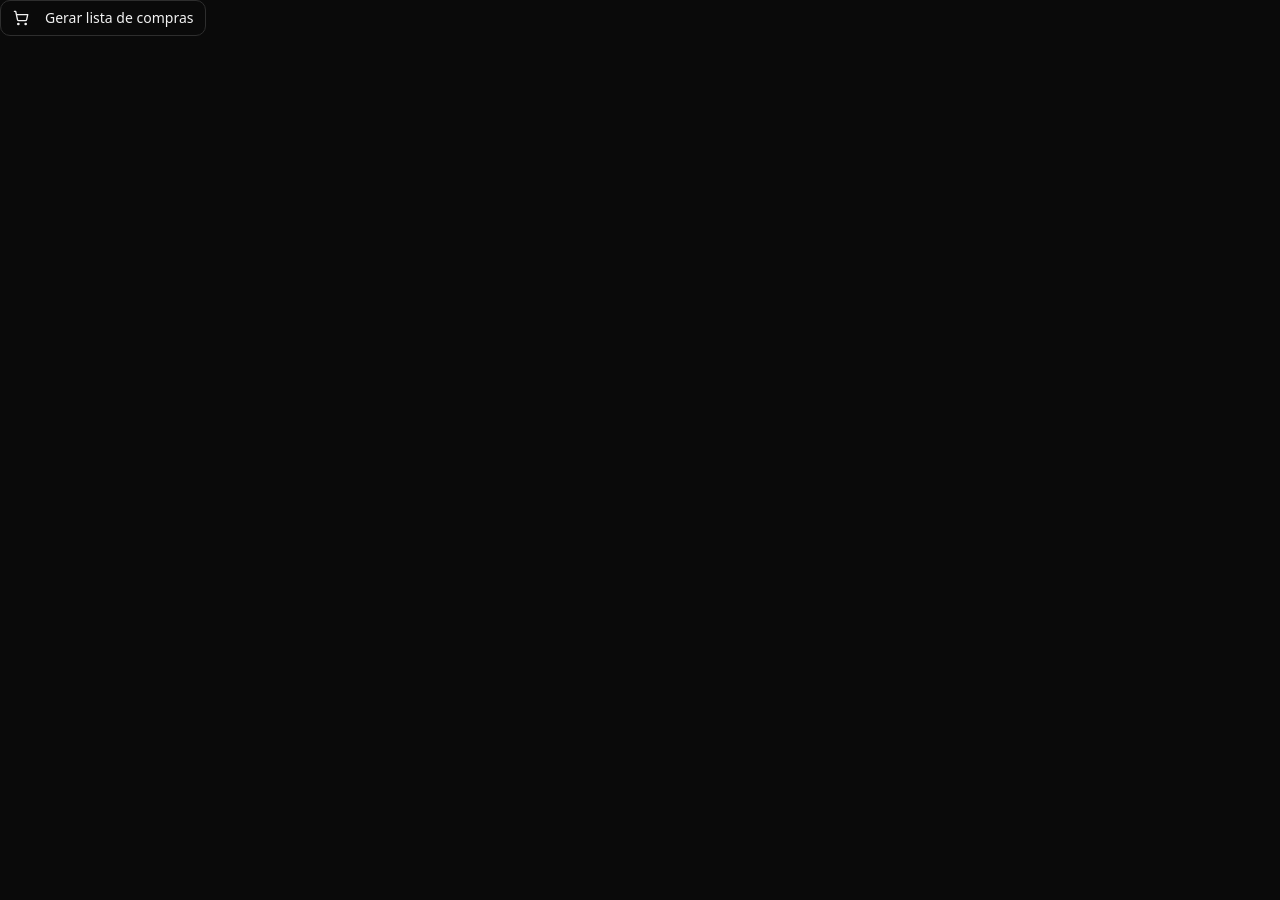
Test: preserves the form and avoids generating an incomplete list after a read error
What coordinates should you click on to do the following:
click the button "Gerar lista de compras"
I would click on:
 (103, 18)
Its box is [0,0,206,36].
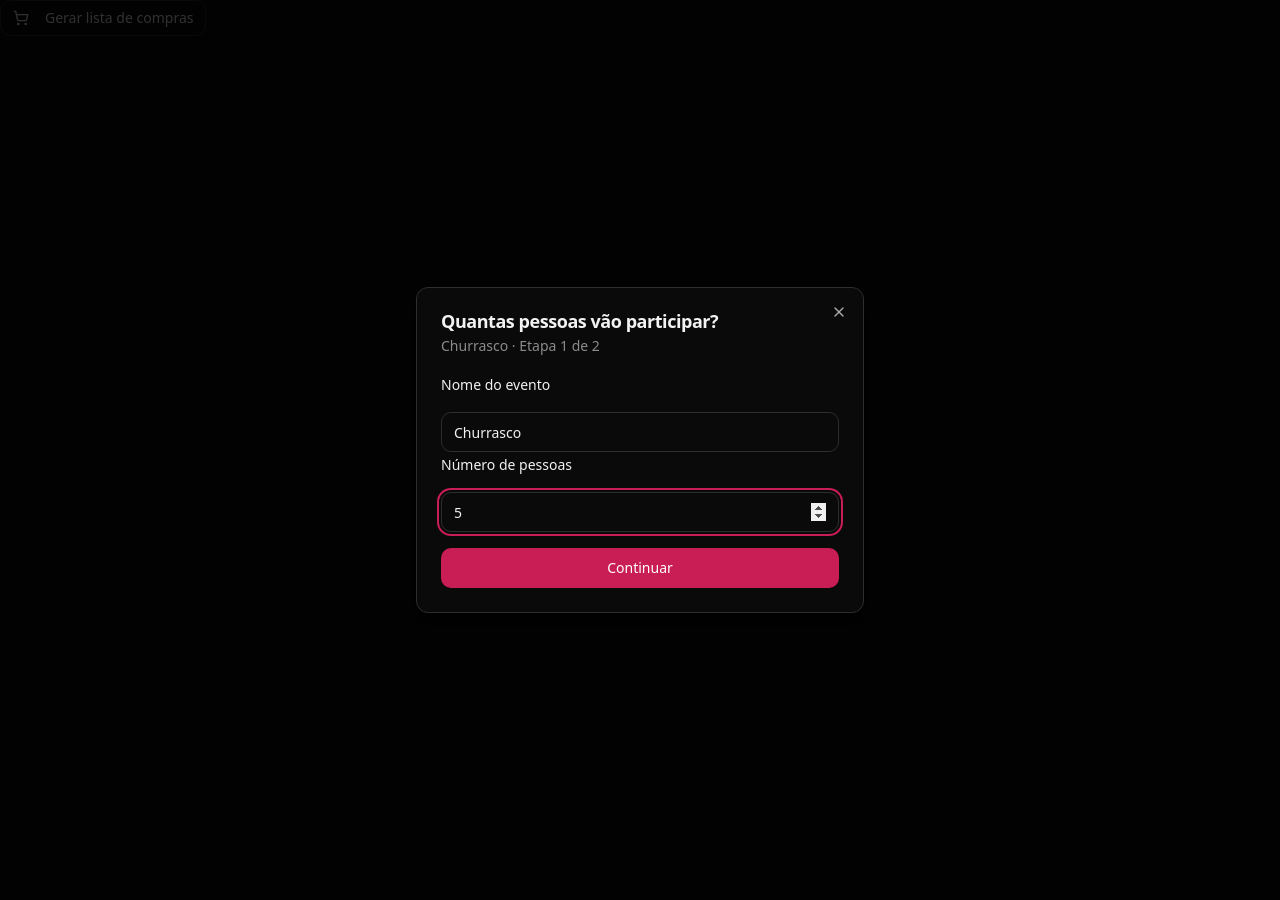
What coordinates should you click on to do the following:
click the button "Continuar"
I would click on:
 (640, 568)
Its box is [441,548,839,588].
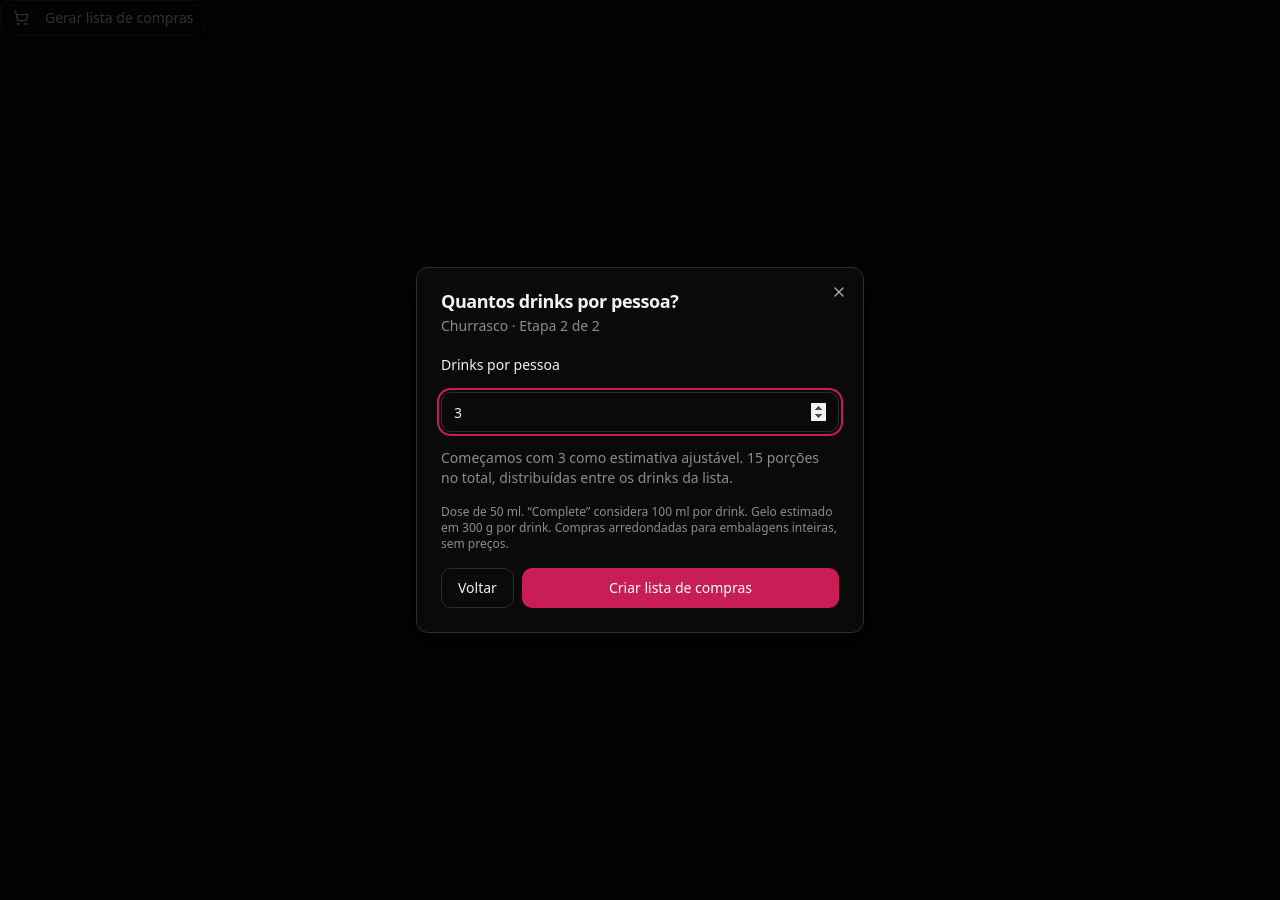
What coordinates should you click on to do the following:
click the button "Criar lista de compras"
I would click on:
 (680, 588)
Its box is [522,568,839,608].
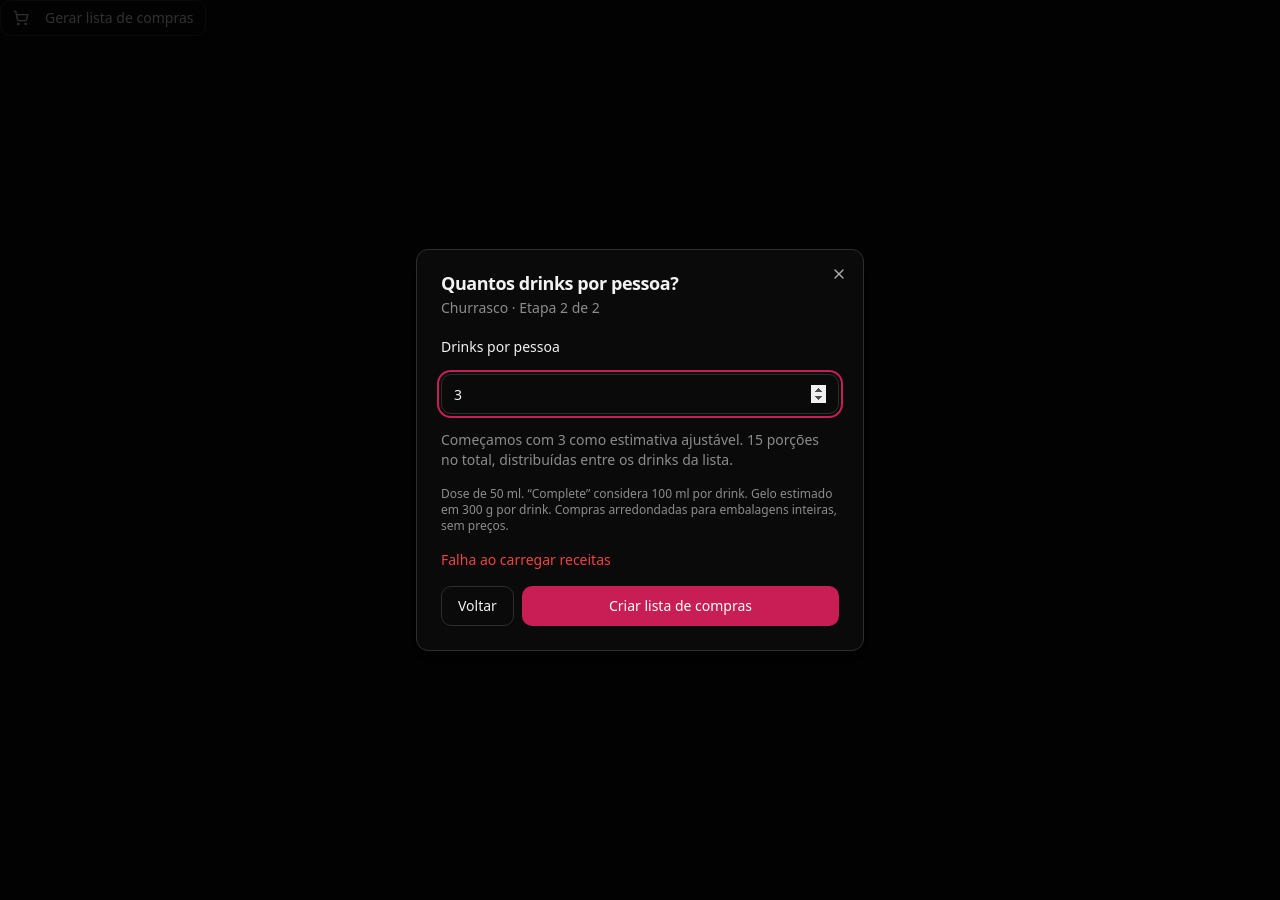
Expected: the message reads "Falha ao carregar receitas", [441,550,611,569]
